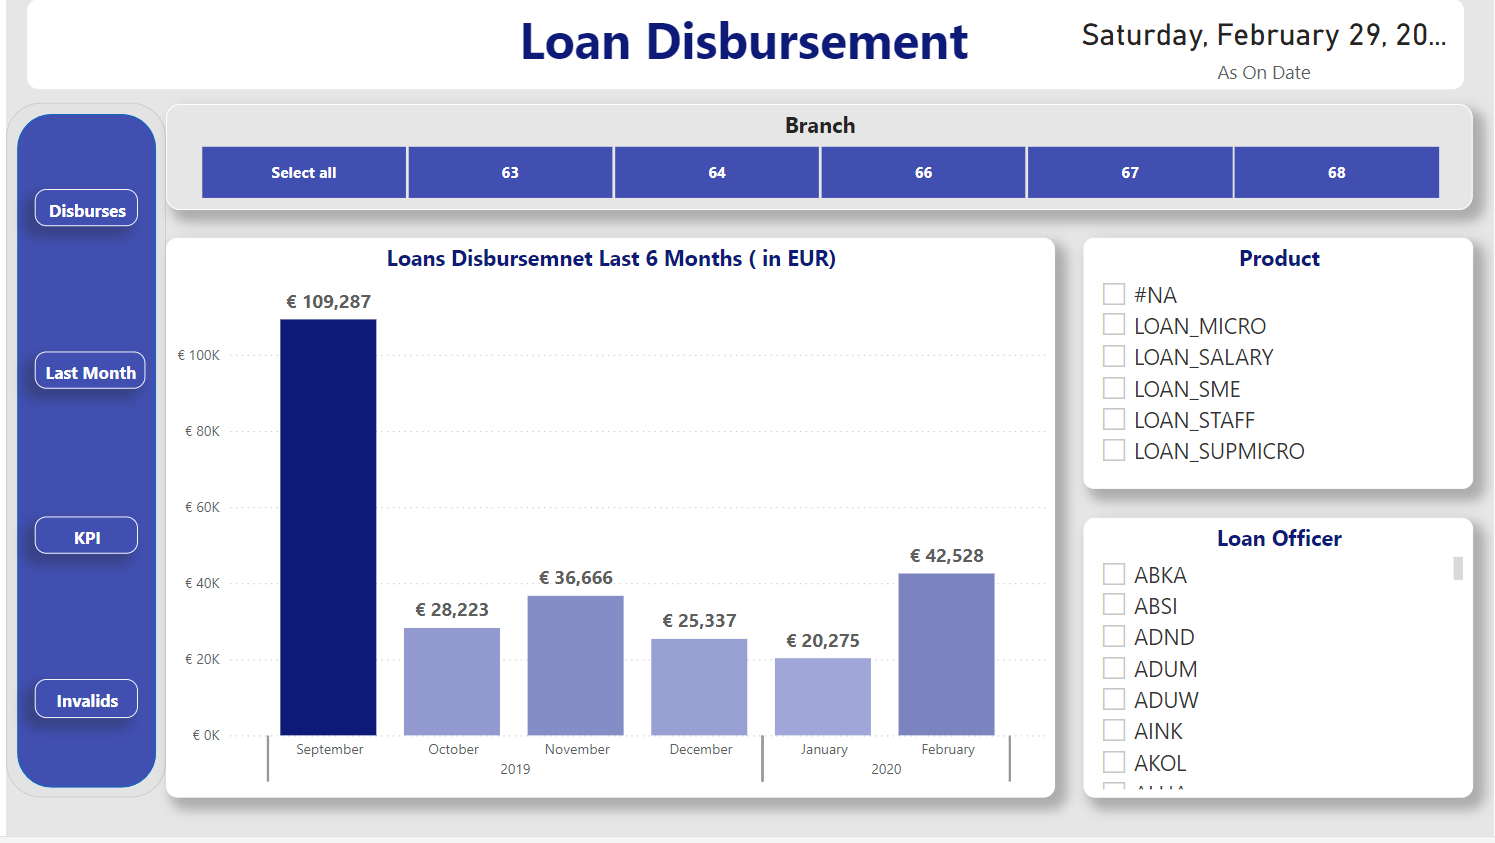

What the dashboard file says about the page in this screenshot:
{"tool":"powerbi","page":{"name":"Loan Disbursement","canvas":[1280,720],"ordinal":0},"visuals":[{"type":"shape","box":[0,88.8,137.5,597.5],"z":0},{"type":"shape","box":[18.8,0,1236.2,77.5],"z":1000},{"type":"actionButton","box":[25,163.8,88.8,32.3],"z":2000},{"type":"actionButton","box":[25,303.8,95,31.9],"z":4000},{"type":"clusteredColumnChart","title":"Loans Disbursemnet Last 6 Months ( in EUR)","fields":{"Y":["FactLoan.principal_amount_eur"],"Category":["DimDate.FullDateAlternateKey.Variation.Date Hierarchy.Year","DimDate.FullDateAlternateKey.Variation.Date Hierarchy.Month"]},"box":[137.5,205,765,481.2],"z":5000},{"type":"actionButton","box":[25,445.5,88.8,32.3],"z":6000},{"type":"actionButton","box":[25,585.3,88.8,33.5],"z":8000},{"type":"slicer","title":"Branch","fields":{"Values":["Dimension.branch_key"]},"box":[137.5,90,1123.8,91.2],"z":9000},{"type":"slicer","title":"Product","fields":{"Values":["Dimension.product_key"]},"box":[926.5,205.1,335.4,216],"z":11000},{"type":"slicer","title":"Loan Officer","fields":{"Values":["Dimension.loan_officer_user_code"]},"box":[926.4,446,335.2,240.8],"z":13000},{"type":"card","fields":{"Values":["DimDate.FullDateAlternateKey"]},"box":[913.8,0,335,77.5],"z":14000},{"type":"textbox","box":[345.7,0,588.6,112.9],"z":15000}]}

Visuals, with their boxes in screenshot pixels (x1, y1, x2, y2), scaled from the page's 1280x720 canvas onto the 1495x843 screenshot:
shape: l=0, t=104, r=161, b=804
shape: l=22, t=0, r=1466, b=91
actionButton: l=29, t=192, r=133, b=230
actionButton: l=29, t=356, r=140, b=393
"Loans Disbursemnet Last 6 Months ( in EUR)" clusteredColumnChart: l=161, t=240, r=1054, b=803
actionButton: l=29, t=522, r=133, b=559
actionButton: l=29, t=685, r=133, b=725
"Branch" slicer: l=161, t=105, r=1473, b=212
"Product" slicer: l=1082, t=240, r=1474, b=493
"Loan Officer" slicer: l=1082, t=522, r=1474, b=804
card - DimDate.FullDateAlternateKey: l=1067, t=0, r=1459, b=91
textbox: l=404, t=0, r=1091, b=132
